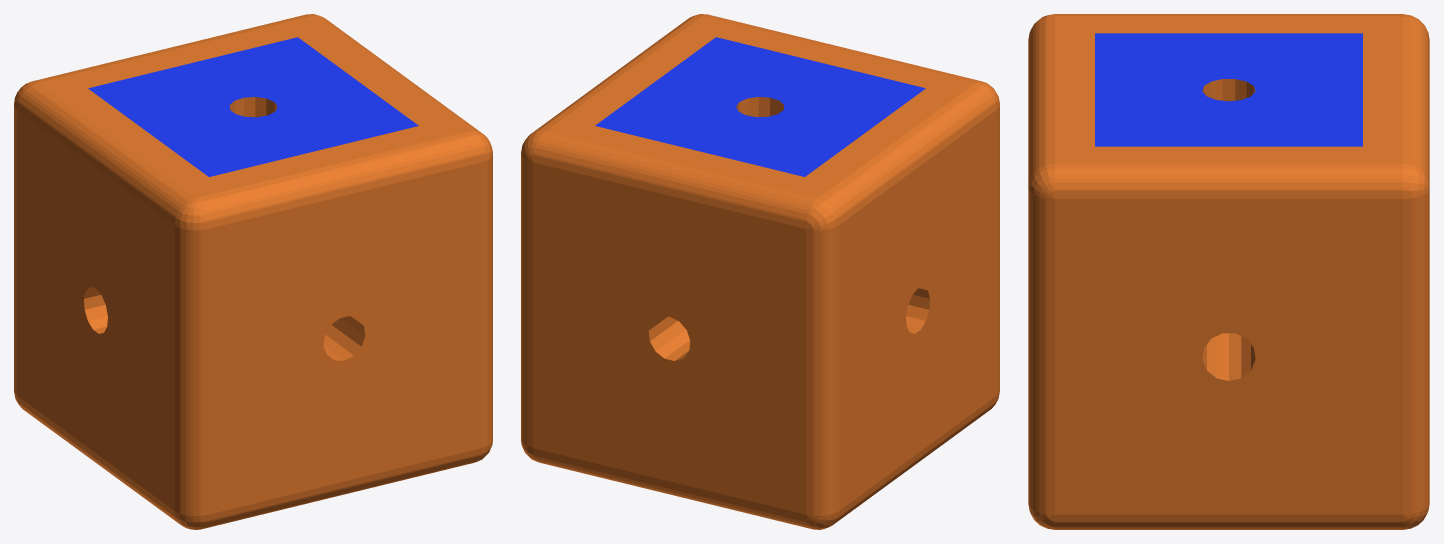
File: irb120pe_BlueCube.dae
3 renders of one model, left to right at view 1: azimuth 30°, elevation 25°; view 2: azimuth 150°, elevation 25°; view 3: azimuth 270°, elevation 25°, orthographic. The views are drawn at different scales.
Visible parts, largest first — view 1: node; view 2: node; view 3: node.
Part boxes in pixels (x1,y1,x2,y2): node: (14, 14, 492, 529); node: (521, 14, 999, 529); node: (1028, 14, 1429, 529).
Bounding box in the file's own units: 0.03 × 0.03 × 0.03.
